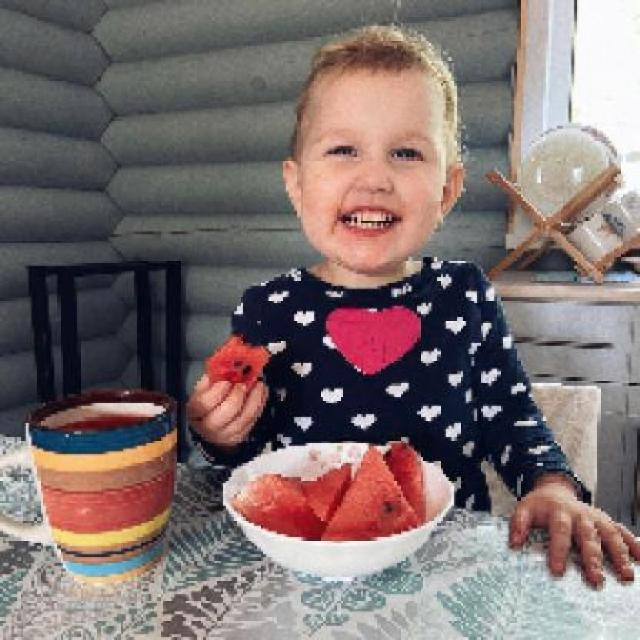child: (185, 26, 638, 586)
